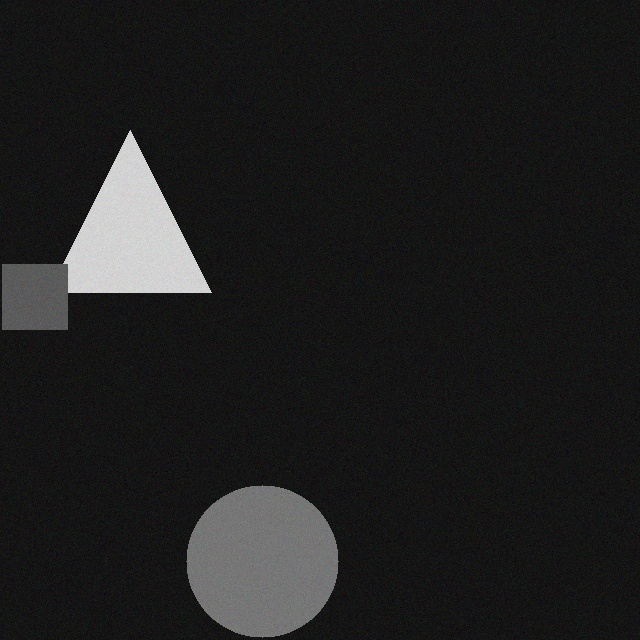circle: (196, 471, 348, 623)
square: (12, 250, 77, 315)
triangle: (59, 116, 221, 278)
